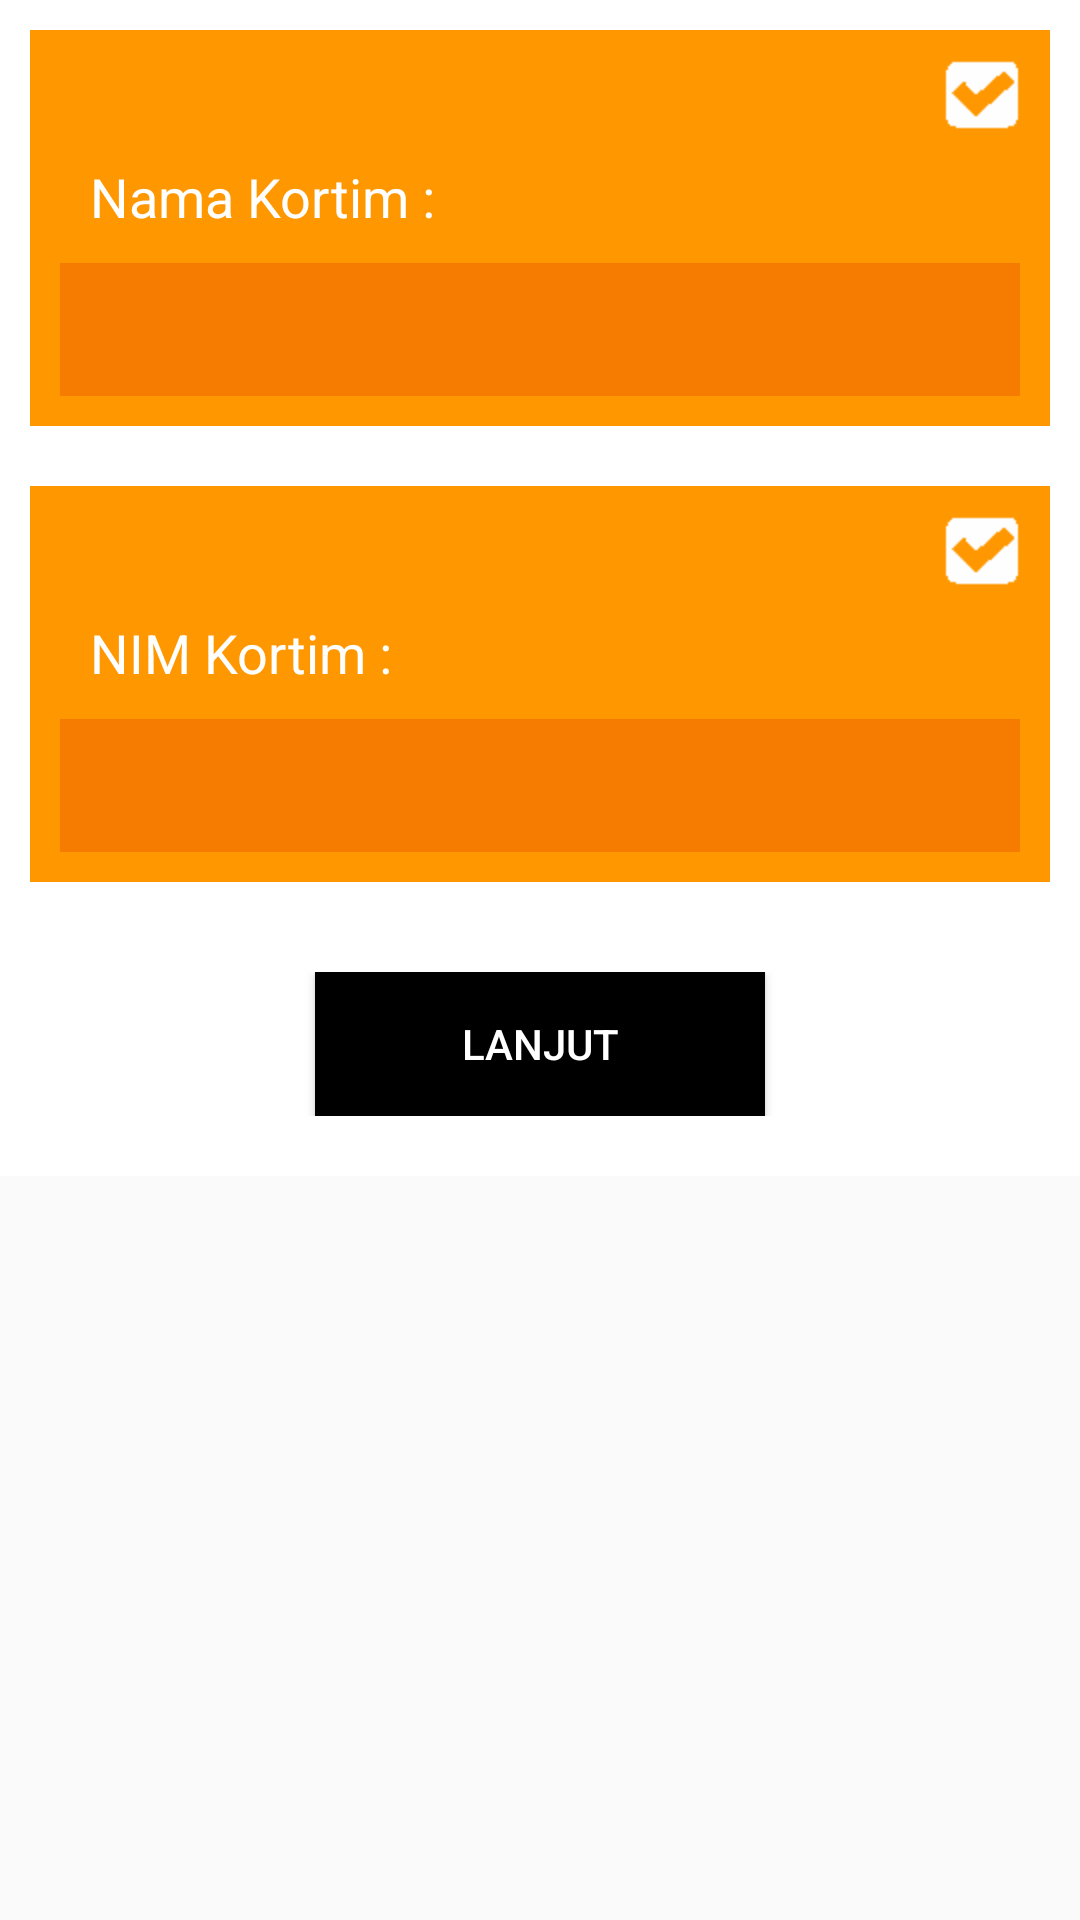

Where icons sit on this 1080×1920 app screen, as BBox(x1, y1, x2, y2):
check: BBox(945, 61, 1019, 129), BBox(945, 517, 1019, 585)
